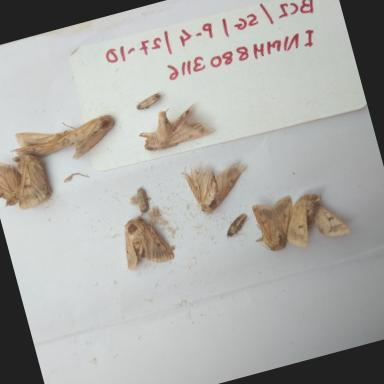abw: (174, 150, 258, 220), (275, 182, 355, 254), (132, 96, 218, 156), (114, 206, 180, 275), (244, 192, 306, 258), (4, 146, 60, 214), (53, 109, 122, 164), (4, 117, 78, 166), (0, 154, 28, 210)
